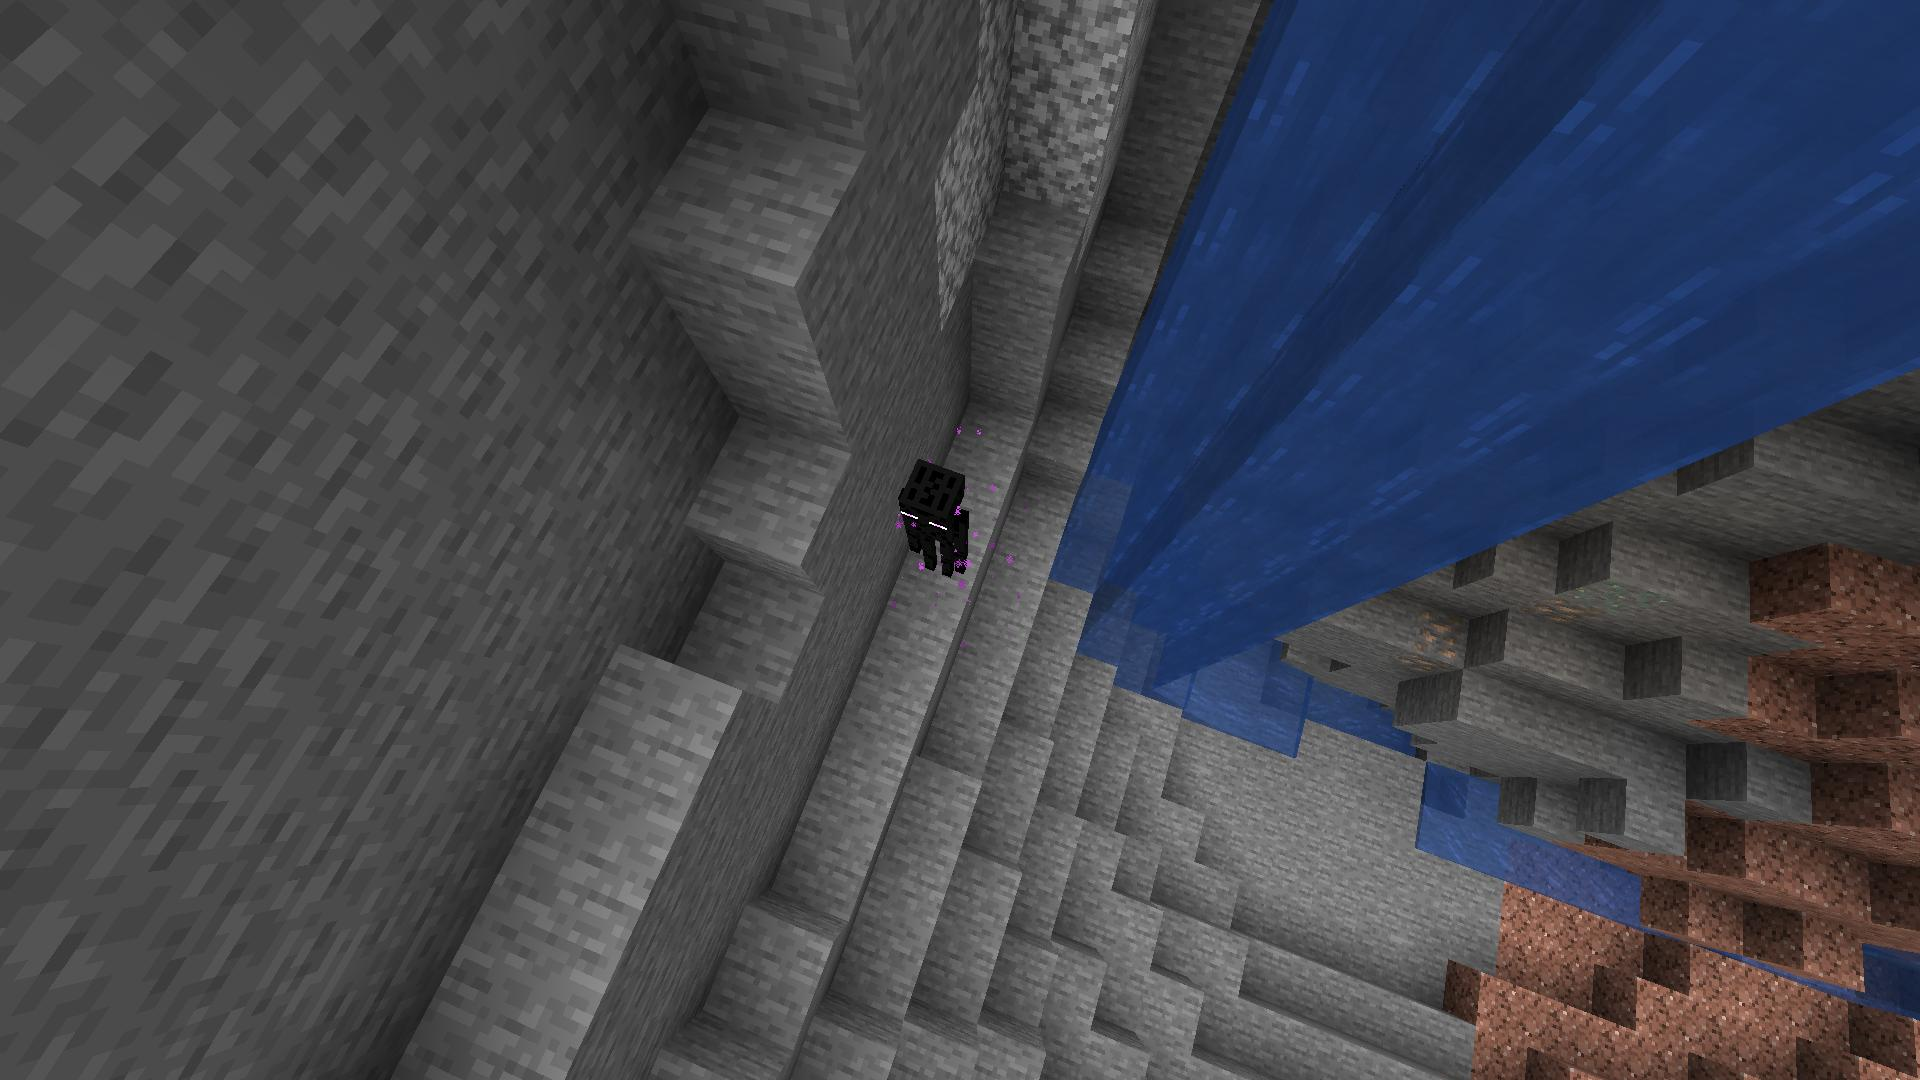enderman: (897, 451, 984, 600)
